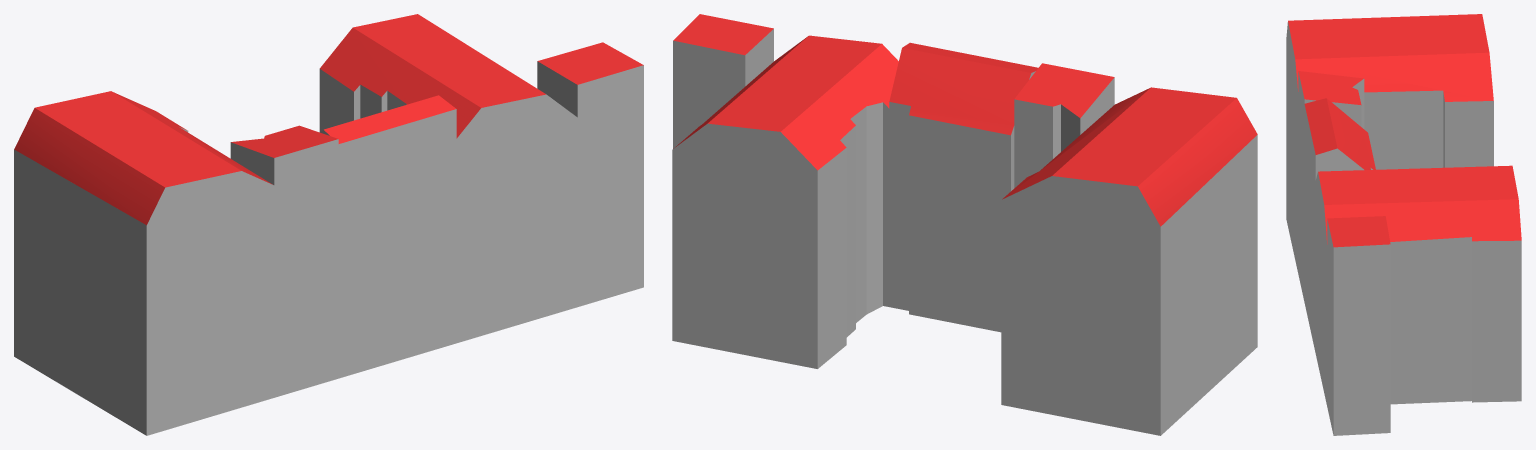
The model's file is DEBE3D01YYK0002UUV.dae.
3 renders of one model, left to right at view 1: azimuth 30°, elevation 25°; view 2: azimuth 150°, elevation 25°; view 3: azimuth 270°, elevation 25°, orthographic. The views are drawn at different scales.
Bounding box in the file's own units: 49.18 × 21.77 × 21.01.
